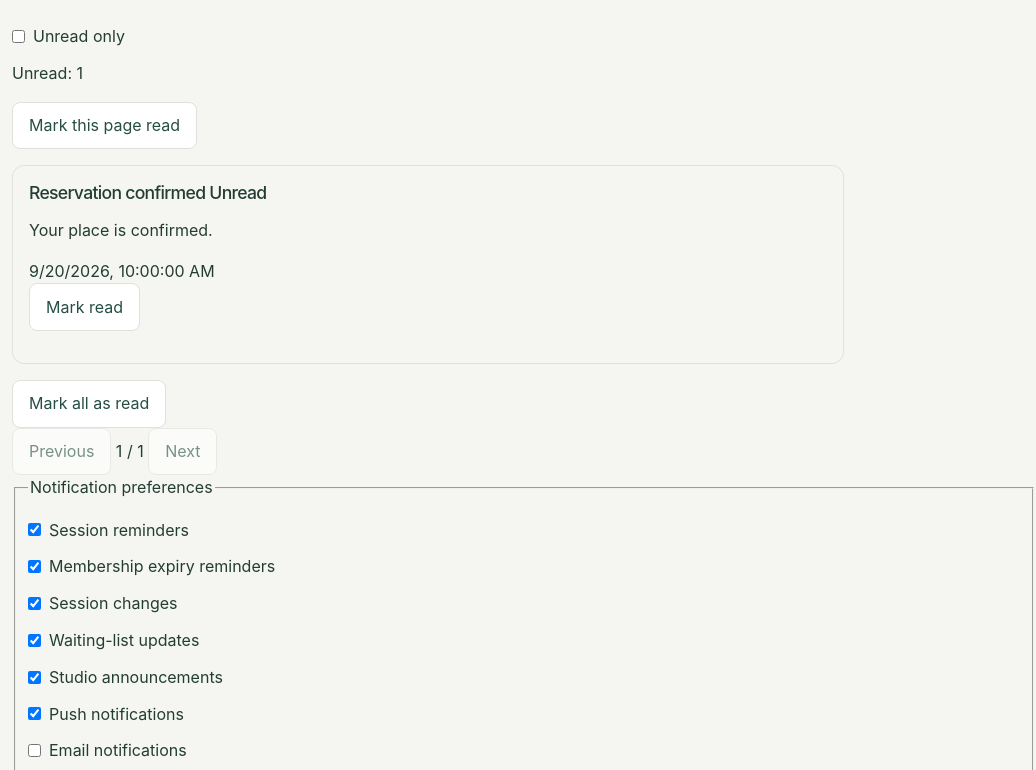
it: shows permission errors without marking a message read
Check: the heading "Reservation confirmed Unread" is shown, box [29, 182, 266, 203]
Step 1. Click the button "Mark read" → {"x": 84, "y": 307}, box [29, 284, 140, 331]
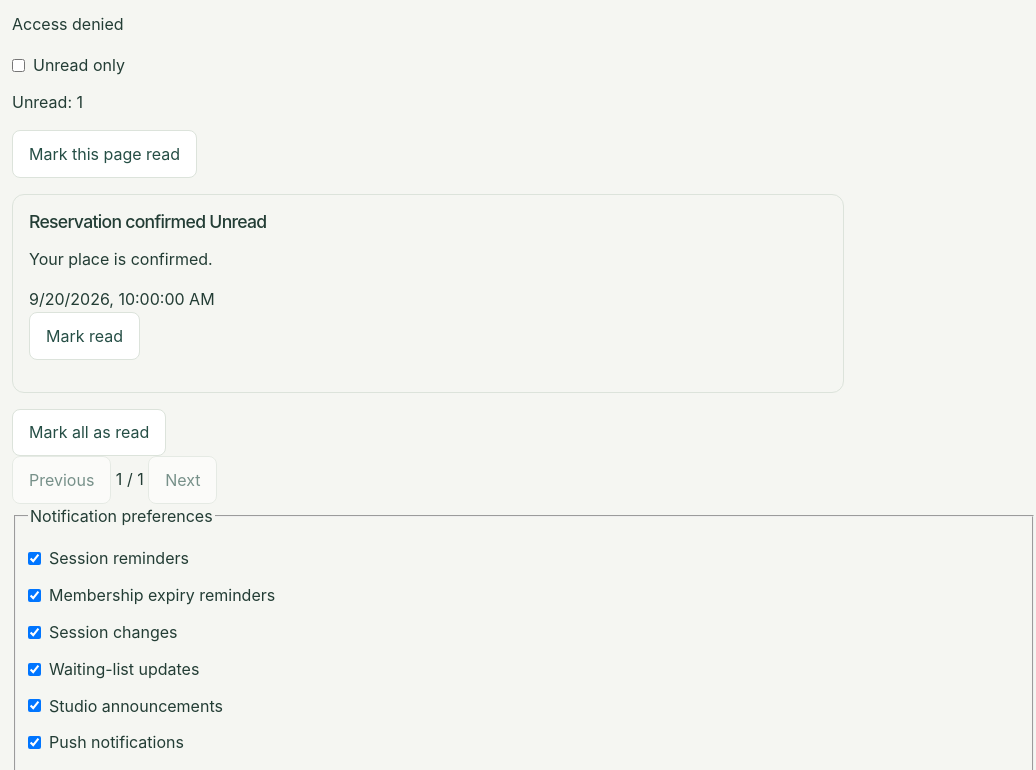
Check: the text "Unread: 1" is shown, box [12, 92, 83, 112]
Check: the message "Access denied" is shown, box [12, 14, 124, 34]
